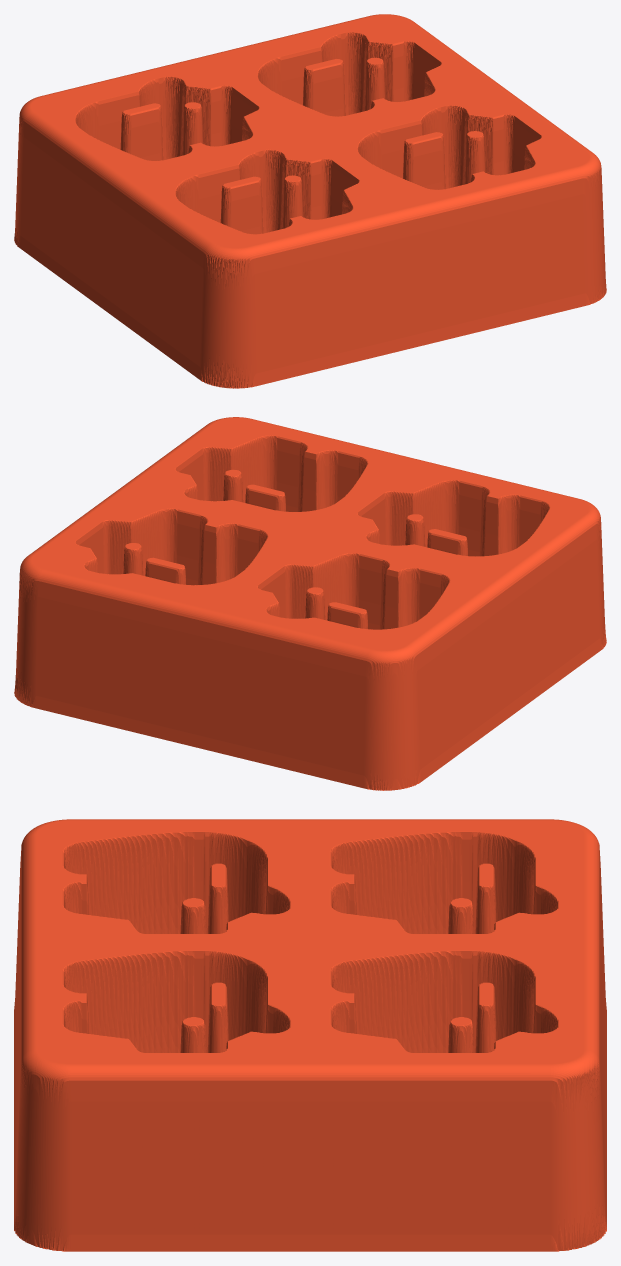
File: mold.glb
The picture shows the model from 3 angles, top to bottom: view 1: azimuth 30°, elevation 25°; view 2: azimuth 150°, elevation 25°; view 3: azimuth 270°, elevation 25°; orthographic projection. The views are drawn at different scales.
Visible parts, largest first — view 1: geometry_0; view 2: geometry_0; view 3: geometry_0.
Boxes of the visible parts, x1,y1,x2,y2 form: geometry_0: [14, 14, 606, 388]; geometry_0: [14, 417, 606, 790]; geometry_0: [14, 819, 606, 1251].
Bounding box in the file's own units: 0.0992 × 0.0314 × 0.0948.
